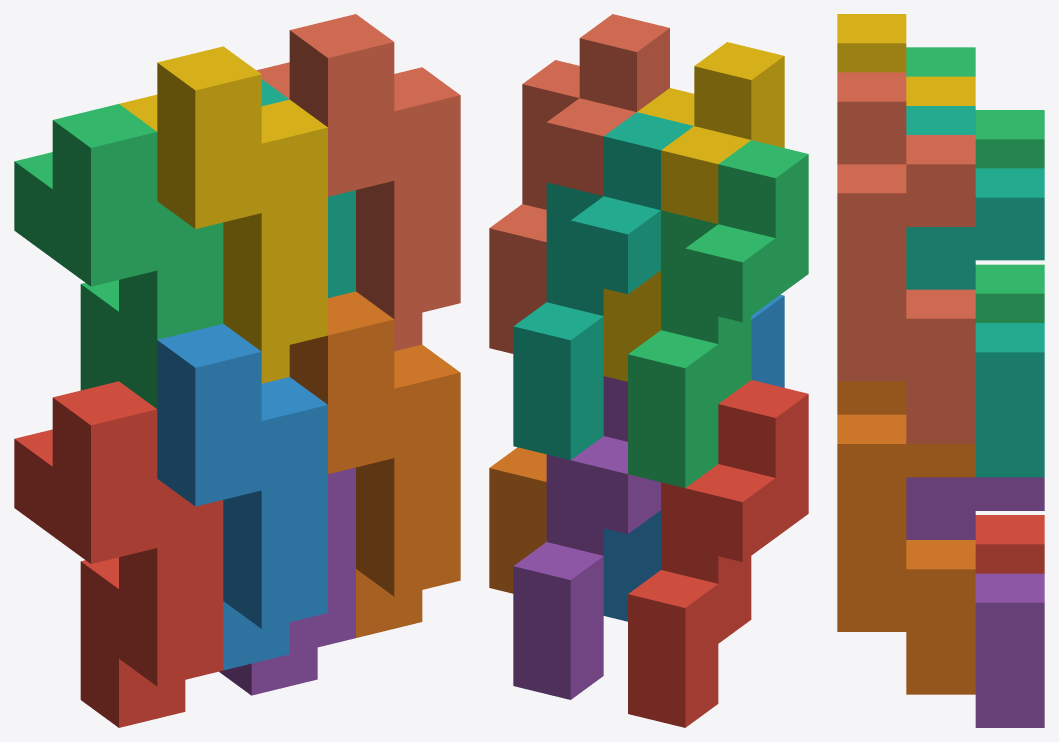
Rendered from tiling.obj.
3 views of the same model, side by side, from view 1: azimuth 30°, elevation 25°; view 2: azimuth 150°, elevation 25°; view 3: azimuth 270°, elevation 25° (orthographic). The views are drawn at different scales.
Parts seen in each view (by area): view 1: copy_1_domain_1, copy_1_domain_2, copy_1_domain_4, copy_1_domain_3, copy_1_domain_8, copy_1_domain_6, copy_1_domain_5, copy_1_domain_7; view 2: copy_1_domain_3, copy_1_domain_1, copy_1_domain_7, copy_1_domain_8, copy_1_domain_5, copy_1_domain_4, copy_1_domain_2, copy_1_domain_6; view 3: copy_1_domain_8, copy_1_domain_6, copy_1_domain_7, copy_1_domain_5, copy_1_domain_3, copy_1_domain_4, copy_1_domain_1.
Boxes of the visible parts, box(x1,y1,x2,y2) form: copy_1_domain_1: box(14, 381, 223, 727); copy_1_domain_2: box(157, 323, 327, 670); copy_1_domain_4: box(119, 46, 327, 383); copy_1_domain_3: box(14, 104, 223, 408); copy_1_domain_8: box(257, 14, 460, 351); copy_1_domain_6: box(289, 291, 460, 637); copy_1_domain_5: box(219, 467, 355, 695); copy_1_domain_7: box(261, 79, 355, 297); copy_1_domain_3: box(628, 140, 808, 487); copy_1_domain_1: box(628, 380, 808, 727); copy_1_domain_7: box(513, 112, 693, 460); copy_1_domain_8: box(489, 14, 669, 353); copy_1_domain_5: box(513, 376, 660, 699); copy_1_domain_4: box(603, 42, 784, 381); copy_1_domain_2: box(603, 294, 784, 621); copy_1_domain_6: box(489, 447, 546, 593); copy_1_domain_8: box(837, 72, 975, 443); copy_1_domain_6: box(837, 381, 975, 694); copy_1_domain_7: box(906, 106, 1044, 477); copy_1_domain_5: box(906, 477, 1044, 727); copy_1_domain_3: box(906, 47, 1044, 322); copy_1_domain_4: box(837, 14, 975, 105); copy_1_domain_1: box(975, 515, 1044, 573).
Bounding box in the file's own units: 5 × 10 × 3.
